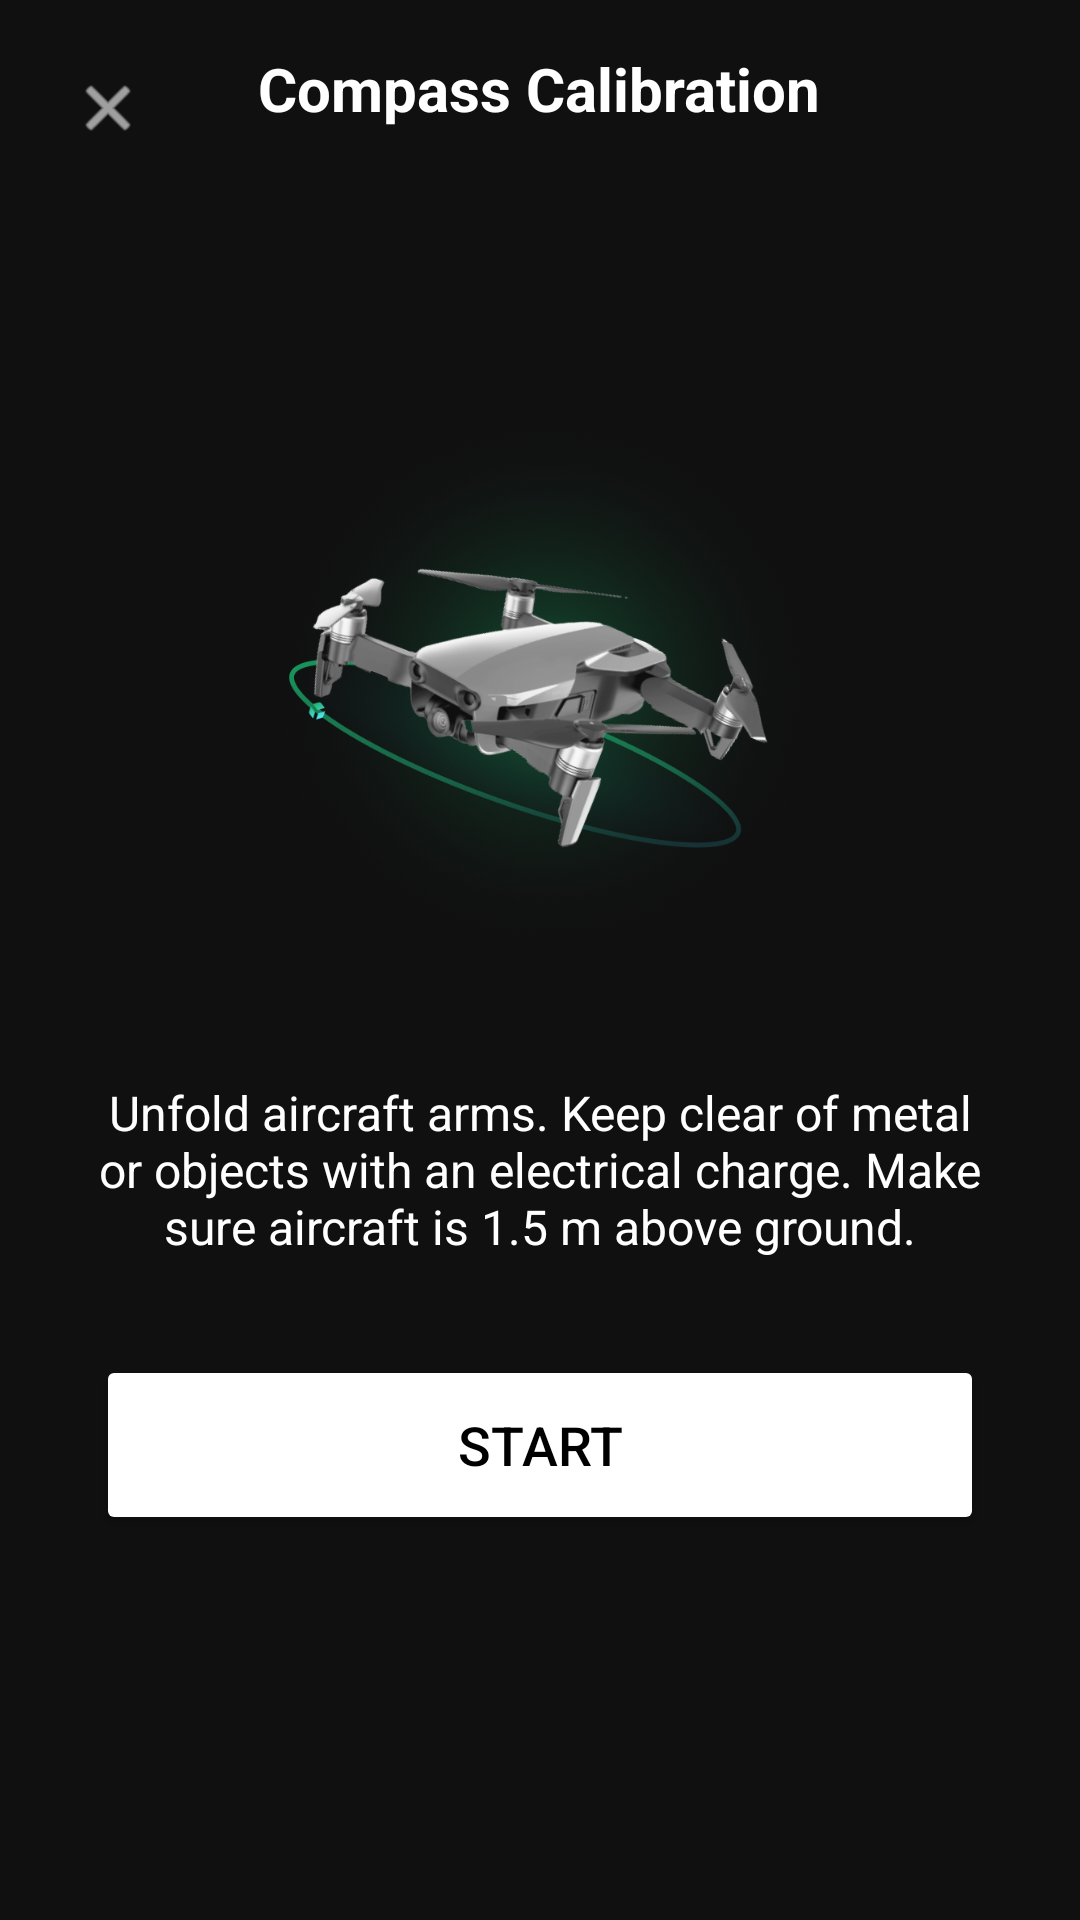

Where icons sit on this 1080px x 1920px app screen, as (x1=x1, y1=y1, x2=x2, y2=y2):
Close: (x1=85, y1=85, x2=131, y2=131)
